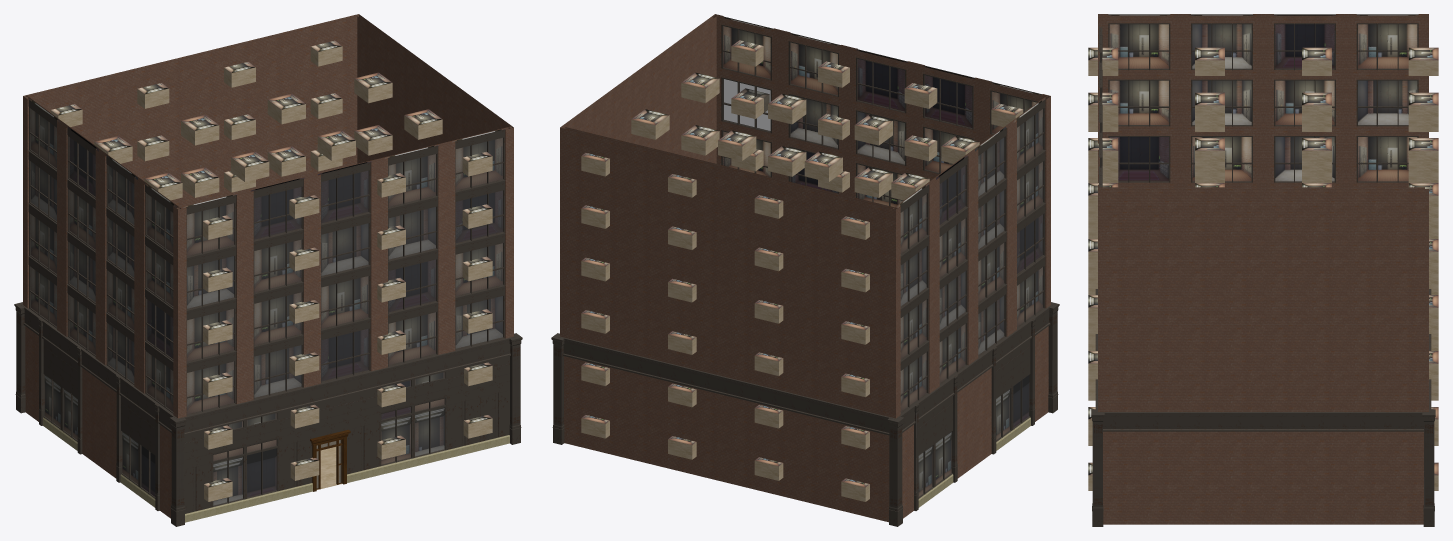
Rendered from Building_Large_2_destructible.gltf.
The picture shows the model from 3 angles, left to right: view 1: azimuth 30°, elevation 25°; view 2: azimuth 150°, elevation 25°; view 3: azimuth 270°, elevation 25°; orthographic projection. The views are drawn at different scales.
Parts seen in each view (by area): view 1: block_f2_r3_c0, block_f5_r3_c0, block_f0_r3_c0, block_f1_r3_c0, block_f5_r0_c3, block_f3_r3_c0, block_f4_r3_c0, block_f5_r3_c3, block_f5_r3_c2, block_f5_r0_c1, block_f5_r0_c2, block_f2_r3_c2 (+48 smaller); view 2: block_f5_r0_c0, block_f2_r0_c0, block_f0_r0_c0, block_f1_r0_c0, block_f4_r0_c0, block_f3_r0_c0, block_f5_r3_c3, block_f5_r0_c3, block_f5_r3_c1, block_f5_r0_c2, block_f5_r0_c1, block_f5_r3_c2 (+48 smaller); view 3: block_f5_r1_c0, block_f5_r1_c3, block_f5_r2_c0, block_f5_r2_c3, block_f2_r1_c3, block_f2_r2_c3, block_f0_r2_c3, block_f0_r1_c3, block_f3_r1_c3, block_f3_r2_c3, block_f4_r1_c3, block_f4_r2_c3 (+32 smaller).
Boxes of the visible parts, left/top/right/bottom form: block_f2_r3_c0: left=149, top=346, right=260, bottom=422; block_f5_r3_c0: left=151, top=188, right=258, bottom=261; block_f0_r3_c0: left=150, top=452, right=259, bottom=526; block_f1_r3_c0: left=149, top=400, right=260, bottom=474; block_f5_r0_c3: left=277, top=14, right=386, bottom=87; block_f3_r3_c0: left=151, top=294, right=258, bottom=366; block_f4_r3_c0: left=151, top=242, right=258, bottom=314; block_f5_r3_c3: left=430, top=108, right=513, bottom=199; block_f5_r3_c2: left=344, top=146, right=432, bottom=220; block_f5_r0_c1: left=104, top=55, right=192, bottom=129; block_f5_r0_c2: left=191, top=34, right=279, bottom=108; block_f2_r3_c2: left=344, top=304, right=433, bottom=378; block_f5_r0_c0: left=814, top=188, right=922, bottom=261; block_f2_r0_c0: left=813, top=346, right=924, bottom=422; block_f0_r0_c0: left=814, top=452, right=923, bottom=526; block_f1_r0_c0: left=813, top=400, right=924, bottom=474; block_f4_r0_c0: left=814, top=242, right=922, bottom=314; block_f3_r0_c0: left=814, top=294, right=922, bottom=366; block_f5_r3_c3: left=687, top=14, right=795, bottom=87; block_f5_r0_c3: left=560, top=108, right=643, bottom=199; block_f5_r3_c1: left=881, top=55, right=969, bottom=129; block_f5_r0_c2: left=641, top=146, right=729, bottom=220; block_f5_r0_c1: left=728, top=167, right=816, bottom=241; block_f5_r3_c2: left=794, top=34, right=882, bottom=108; block_f5_r1_c0: left=1263, top=14, right=1370, bottom=75; block_f5_r1_c3: left=1263, top=183, right=1370, bottom=244; block_f5_r2_c0: left=1156, top=14, right=1263, bottom=75; block_f5_r2_c3: left=1156, top=183, right=1263, bottom=244; block_f2_r1_c3: left=1263, top=357, right=1370, bottom=413; block_f2_r2_c3: left=1156, top=357, right=1263, bottom=413; block_f0_r2_c3: left=1156, top=468, right=1263, bottom=524; block_f0_r1_c3: left=1263, top=468, right=1370, bottom=524; block_f3_r1_c3: left=1263, top=301, right=1370, bottom=356; block_f3_r2_c3: left=1156, top=301, right=1263, bottom=356; block_f4_r1_c3: left=1263, top=245, right=1370, bottom=300; block_f4_r2_c3: left=1156, top=245, right=1263, bottom=300.
Bounding box in the file's own units: 12 × 10.4 × 9.84.
Materials: 11 (10 with a texture image).
